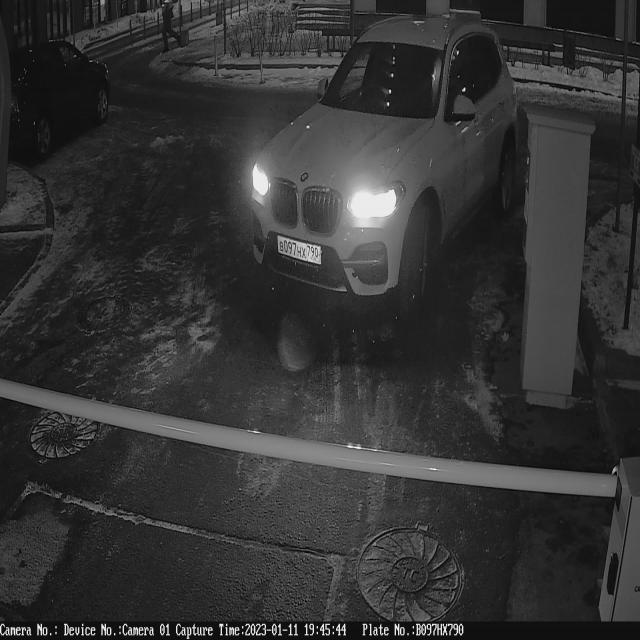car-plate-numbers: (273, 229, 327, 273)
